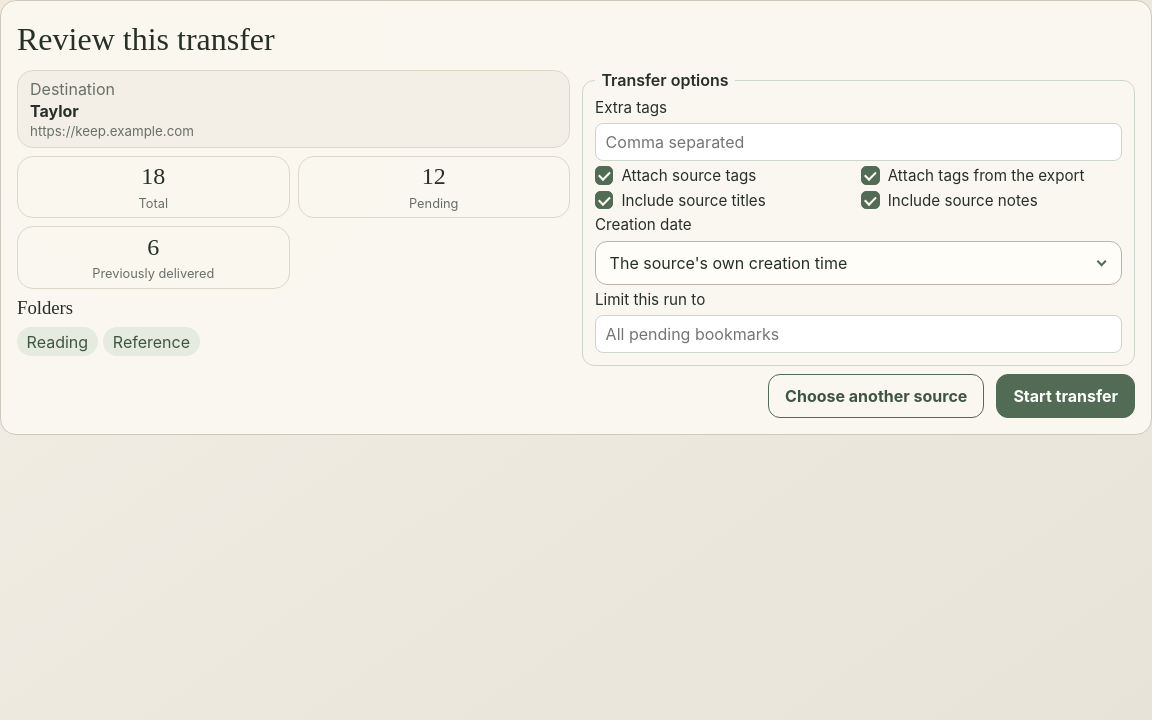
it: TransferReview › explains the delivery consequence before confirmation
Click the button "Start transfer" at (1066, 396), box 996,374 -> 1135,418
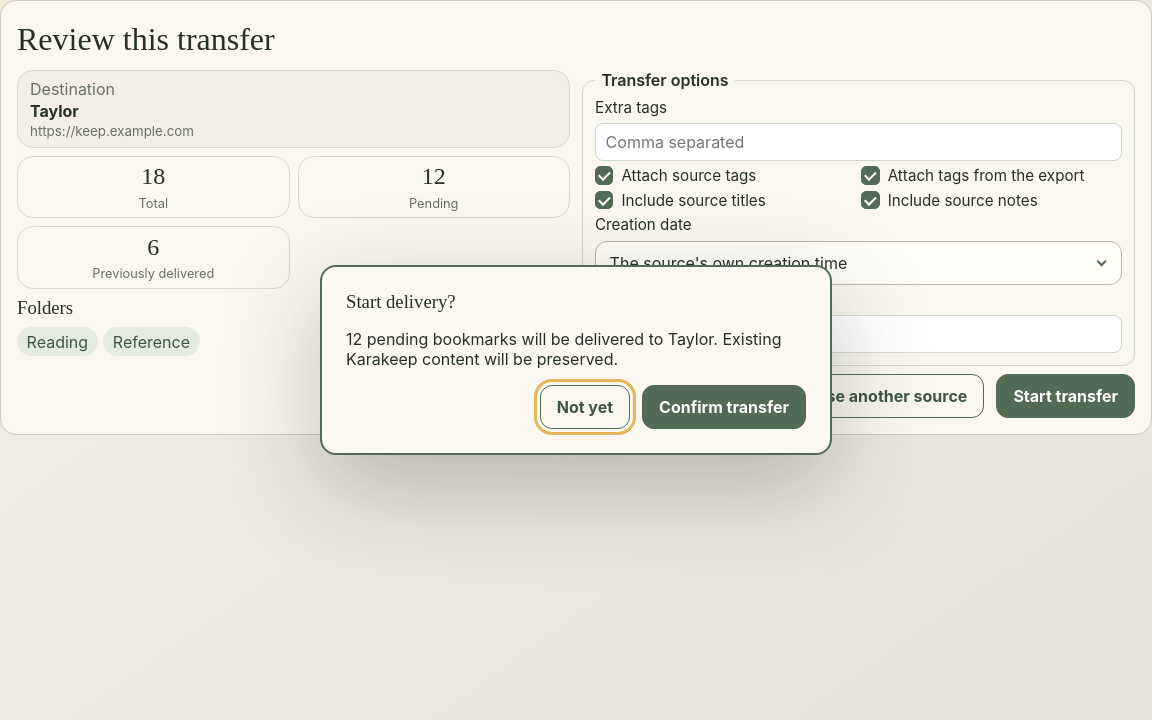
Now the dialog shows "12 pending bookmarks will be delivered to Taylor", box 320,265 -> 832,455
